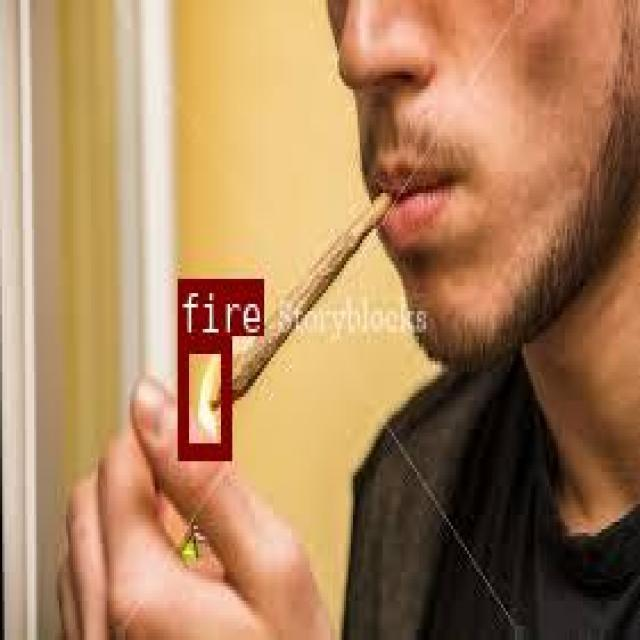fire: (176, 334, 229, 457)
